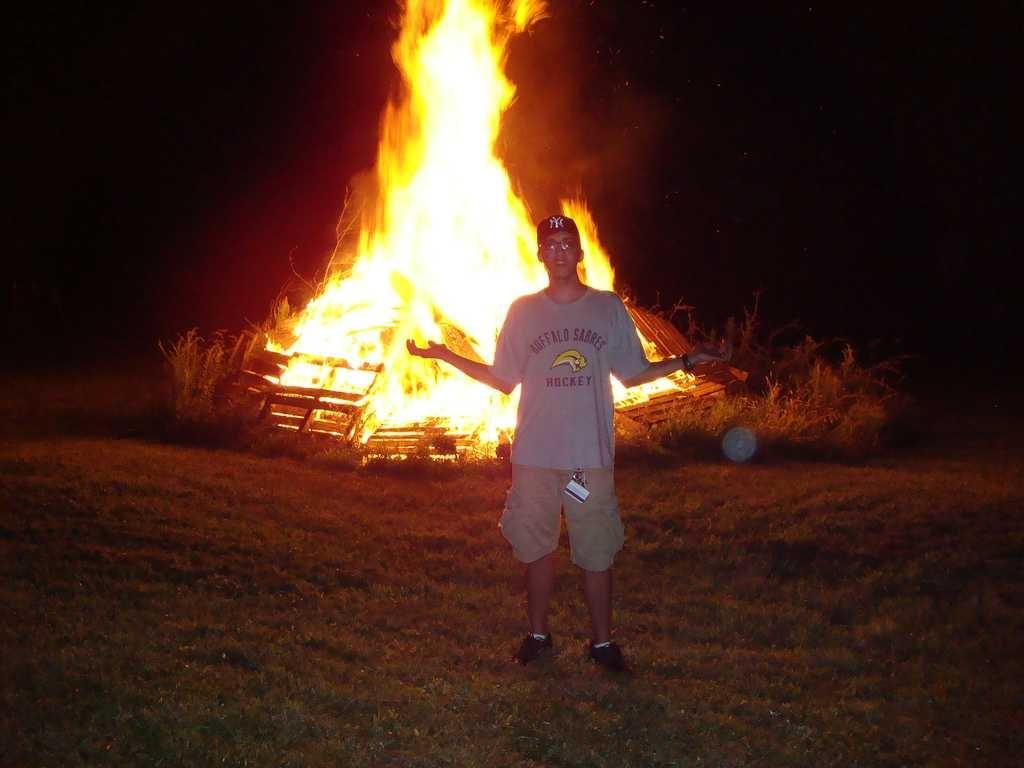fire: (414, 4, 498, 282), (300, 308, 374, 402), (384, 382, 486, 440)
